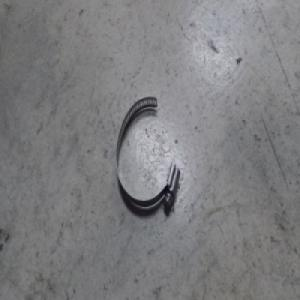AdjustableClamp: (115, 93, 181, 218)
